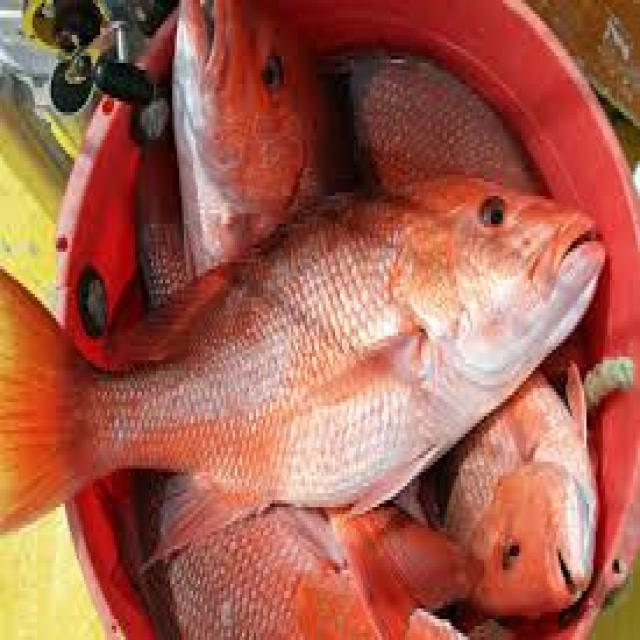northern-red-snapper: (0, 164, 605, 535), (100, 73, 475, 640), (175, 2, 492, 630), (332, 32, 613, 624)
